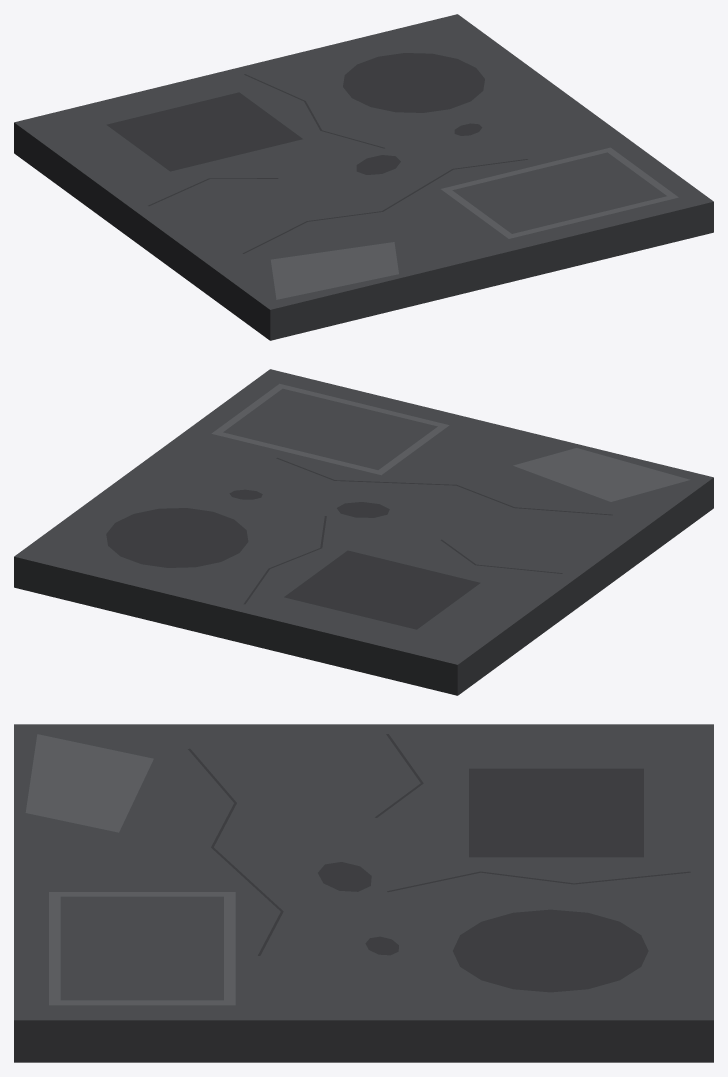
The model's file is SC_Gnd_Road_3x3_Patched.gltf.
The picture shows the model from 3 angles, top to bottom: view 1: azimuth 30°, elevation 25°; view 2: azimuth 150°, elevation 25°; view 3: azimuth 270°, elevation 25°; orthographic projection. The views are drawn at different scales.
Parts seen in each view (by area): view 1: SC_Gnd_Road_3x3_Patched; view 2: SC_Gnd_Road_3x3_Patched; view 3: SC_Gnd_Road_3x3_Patched.
Part boxes in pixels (box(x1,y1,x2,y2)): SC_Gnd_Road_3x3_Patched: box(14, 14, 713, 340); SC_Gnd_Road_3x3_Patched: box(14, 369, 713, 695); SC_Gnd_Road_3x3_Patched: box(14, 724, 713, 1062).
Bounding box in the file's own units: 3 × 0.2013 × 3.
1 material, 1 textured.
